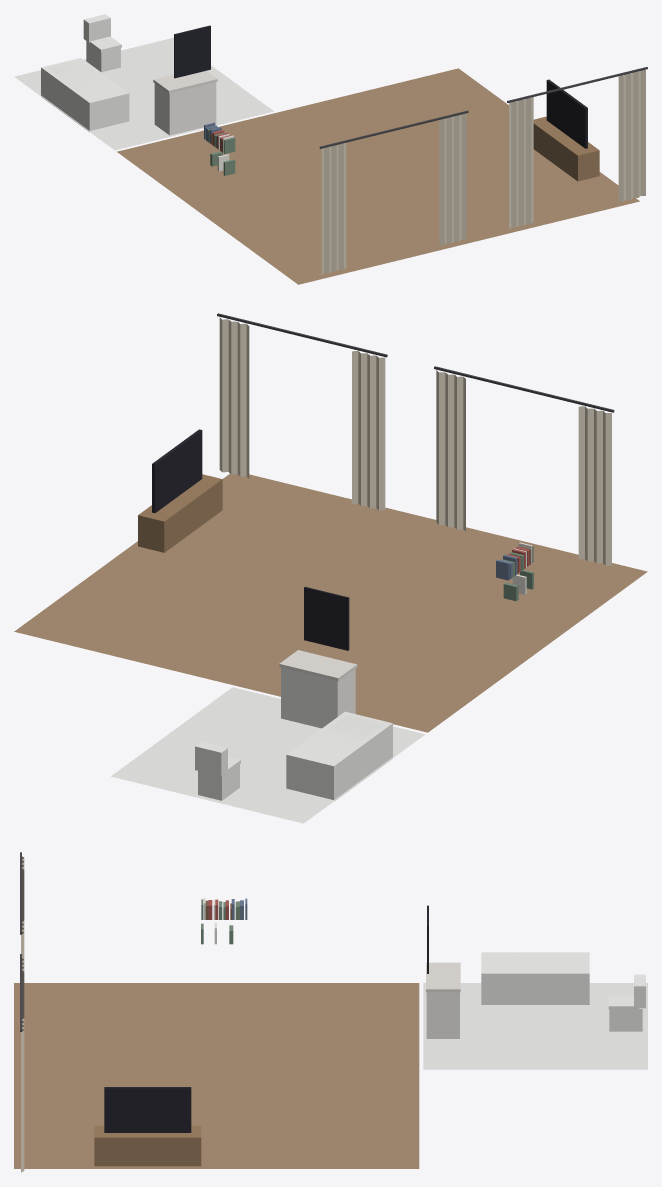
Rendered from fine-s1.glb.
The picture shows the model from 3 angles, top to bottom: view 1: azimuth 30°, elevation 25°; view 2: azimuth 150°, elevation 25°; view 3: azimuth 270°, elevation 25°; orthographic projection. The views are drawn at different scales.
Visible parts, largest first — view 1: soft-s1, vanity.000, bathtub.000, tv-console.000, toilet.000; view 2: soft-s1, vanity.000, bathtub.000, tv-console.000, toilet.000; view 3: soft-s1, tv-console.000, bathtub.000, vanity.000, toilet.000.
Part boxes in pixels (x1,y1,x2,y2): soft-s1: [14, 37, 647, 284]; vanity.000: [153, 25, 217, 135]; bathtub.000: [41, 58, 129, 131]; tv-console.000: [533, 79, 599, 181]; toilet.000: [83, 14, 121, 72]; soft-s1: [14, 313, 647, 823]; vanity.000: [279, 586, 357, 728]; bathtub.000: [286, 711, 392, 801]; tv-console.000: [138, 429, 222, 552]; toilet.000: [195, 741, 240, 800]; soft-s1: [14, 852, 647, 1172]; tv-console.000: [94, 1087, 201, 1166]; bathtub.000: [481, 952, 589, 1004]; vanity.000: [426, 905, 460, 1038]; toilet.000: [608, 974, 645, 1031].
Bounding box in the file's own units: 6.78 × 2.41 × 9.48.
